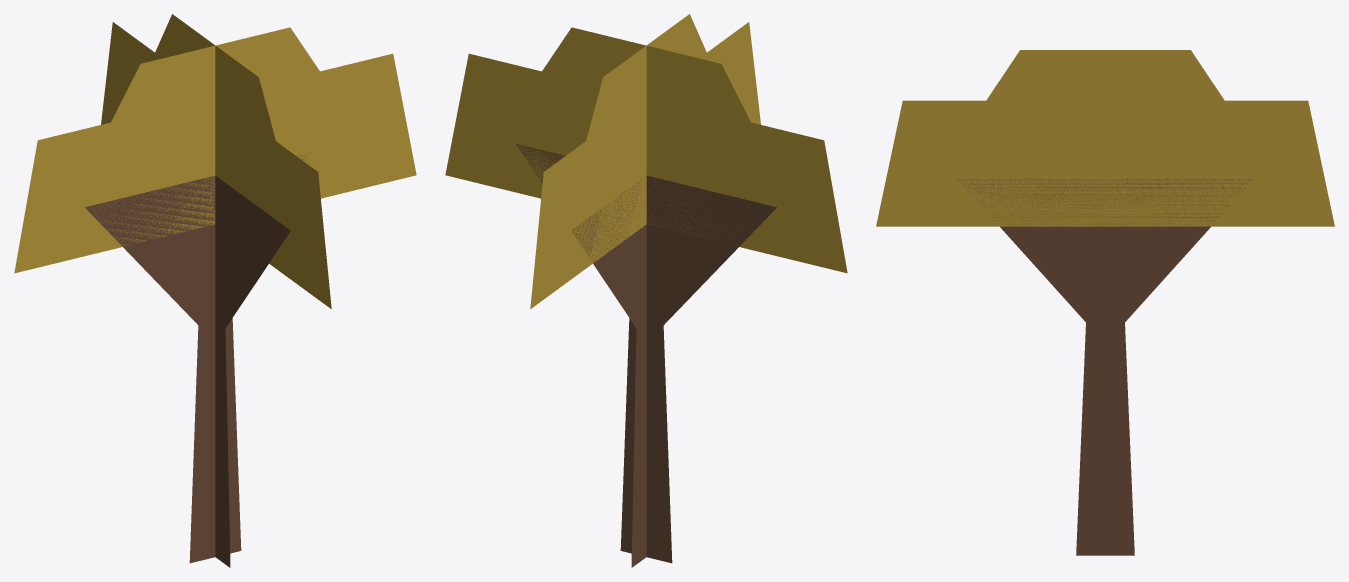
The model's file is custom-ipe-amarelo-silhueta.glb.
3 renders of one model, left to right at view 1: azimuth 30°, elevation 25°; view 2: azimuth 150°, elevation 25°; view 3: azimuth 270°, elevation 25°, orthographic.
Parts seen in each view (by area): view 1: ipe-amarelo-silhueta; view 2: ipe-amarelo-silhueta; view 3: ipe-amarelo-silhueta.
Boxes of the visible parts, <box> form: ipe-amarelo-silhueta: <box>14,14,416,567</box>; ipe-amarelo-silhueta: <box>445,14,847,567</box>; ipe-amarelo-silhueta: <box>876,50,1334,555</box>.
Bounding box in the file's own units: 8.6 × 10.45 × 8.6.
